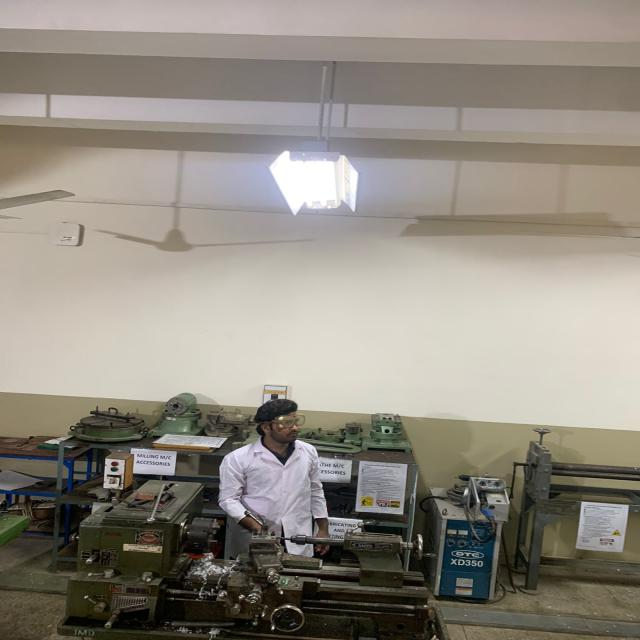googles: (272, 411, 306, 430)
labcoat: (213, 433, 331, 559)
